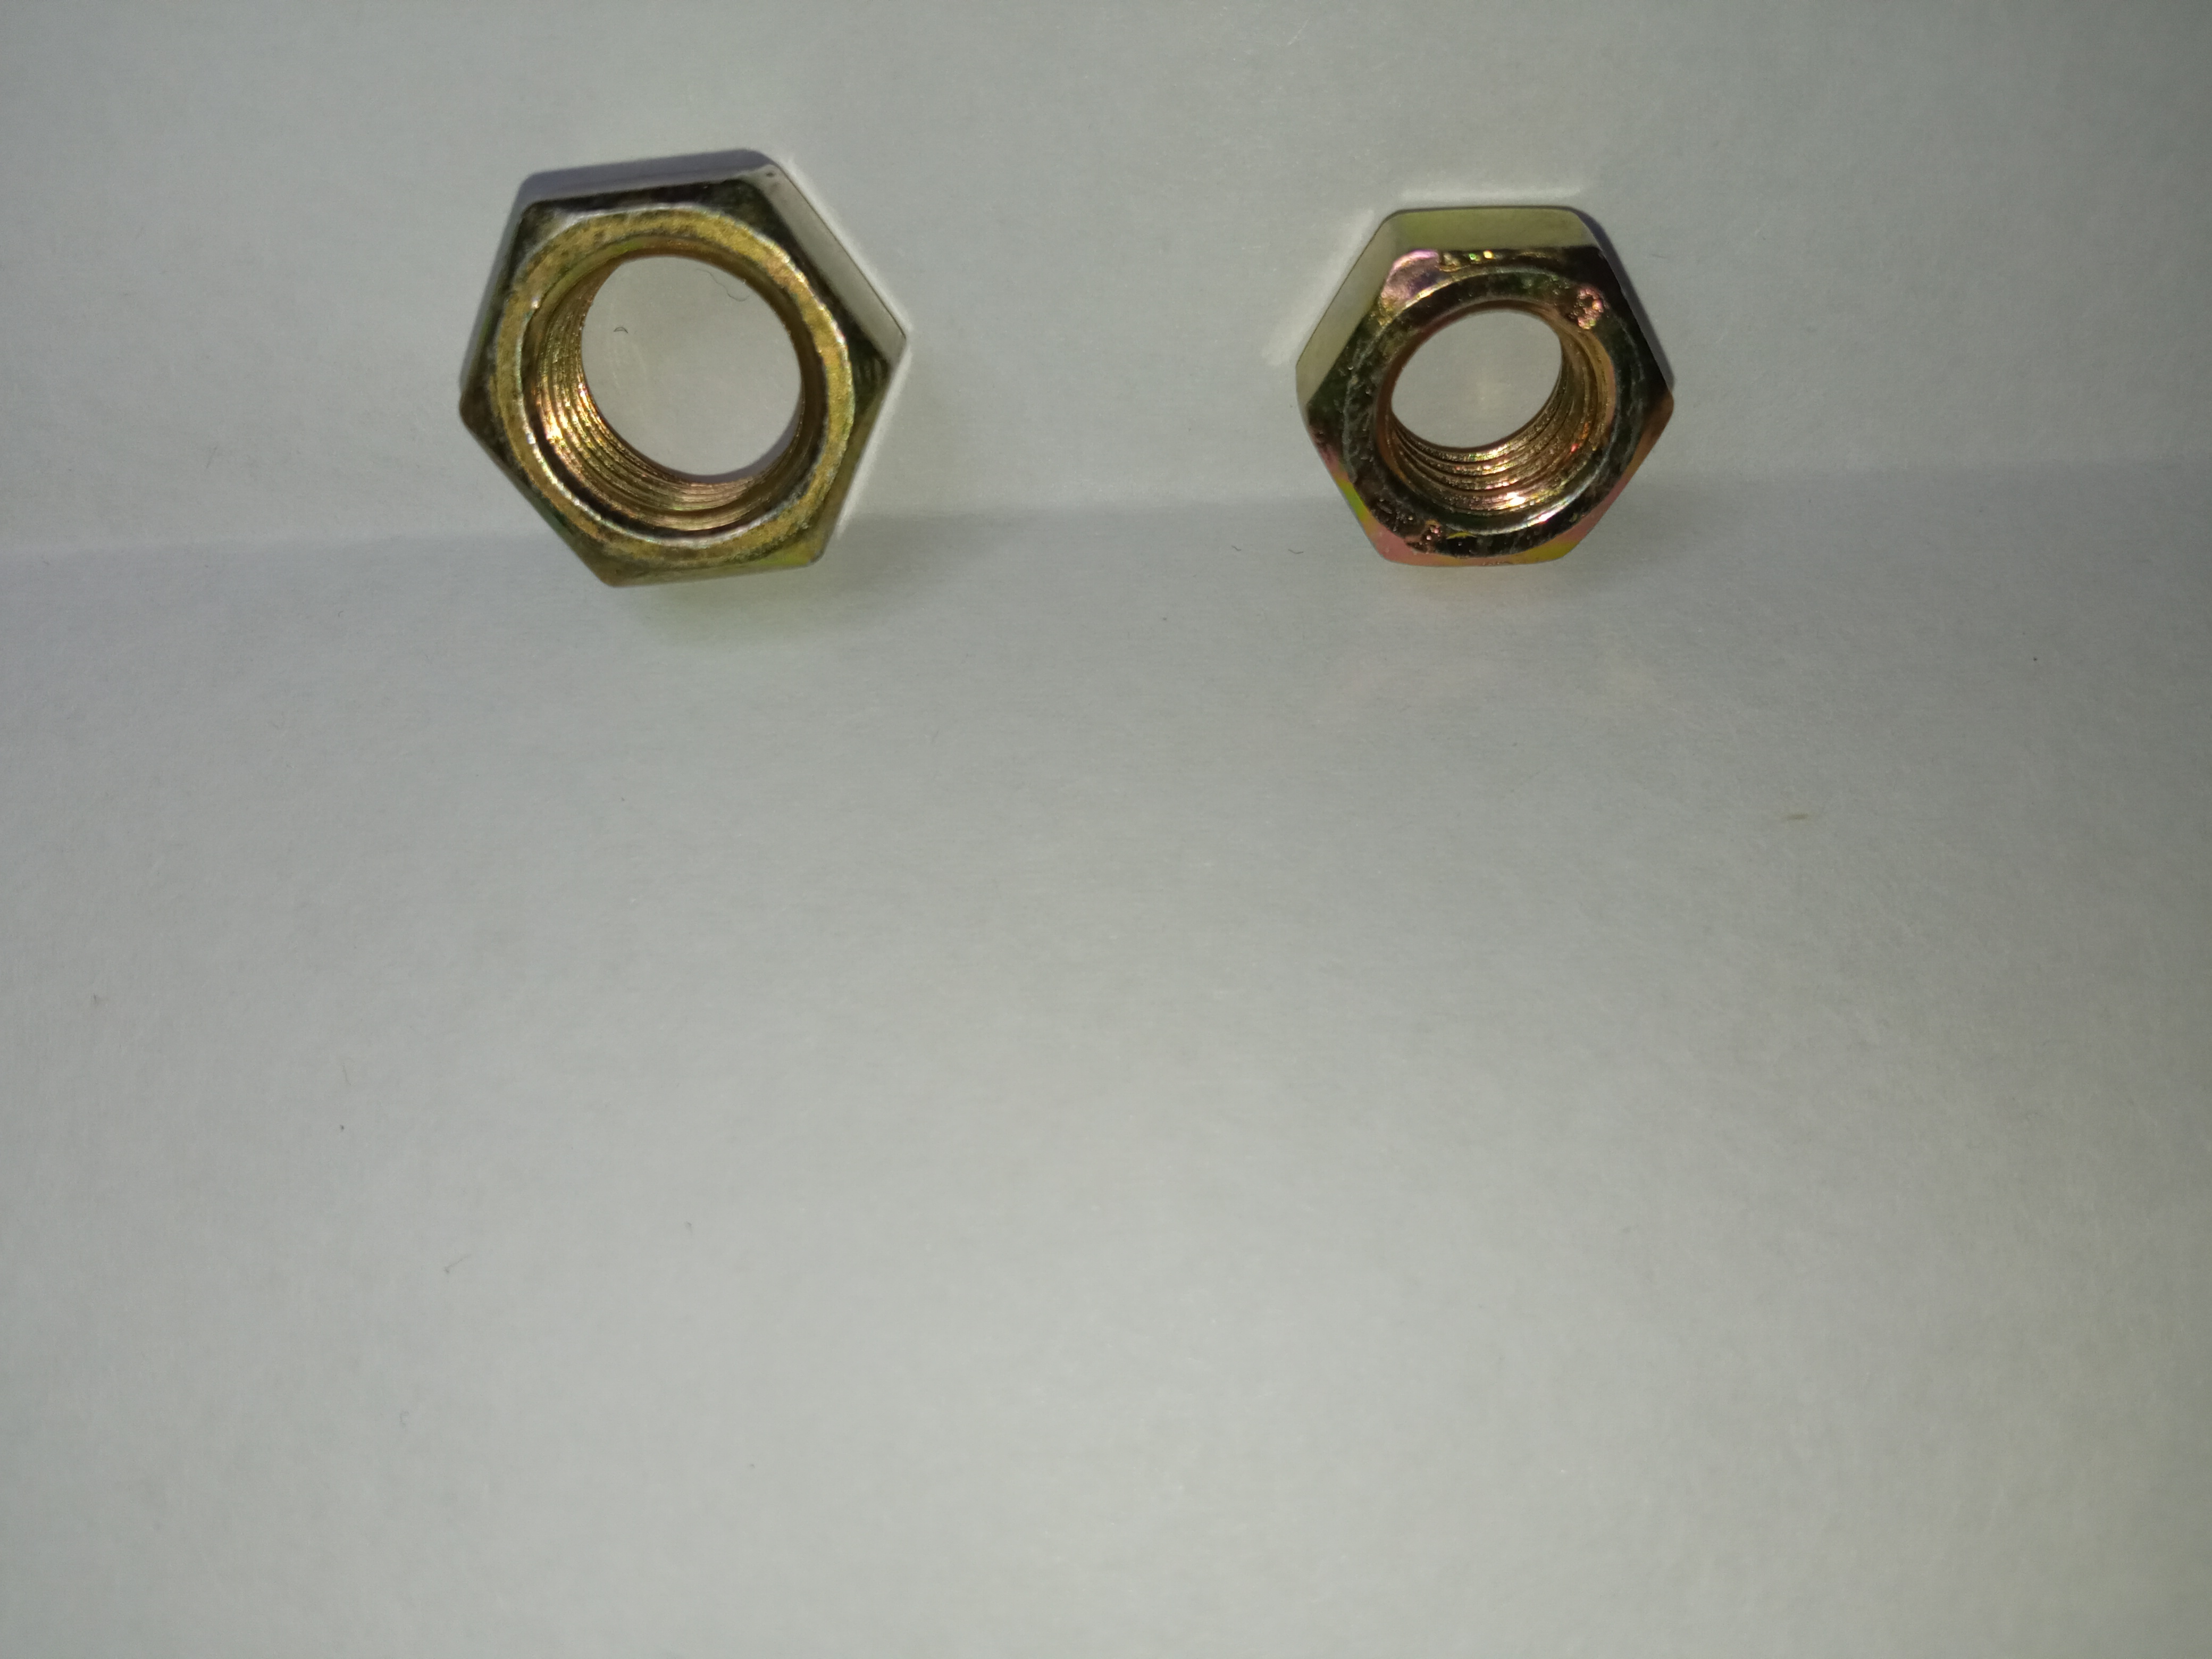m10: (451, 160, 918, 620)
m8: (1292, 190, 1681, 565)
